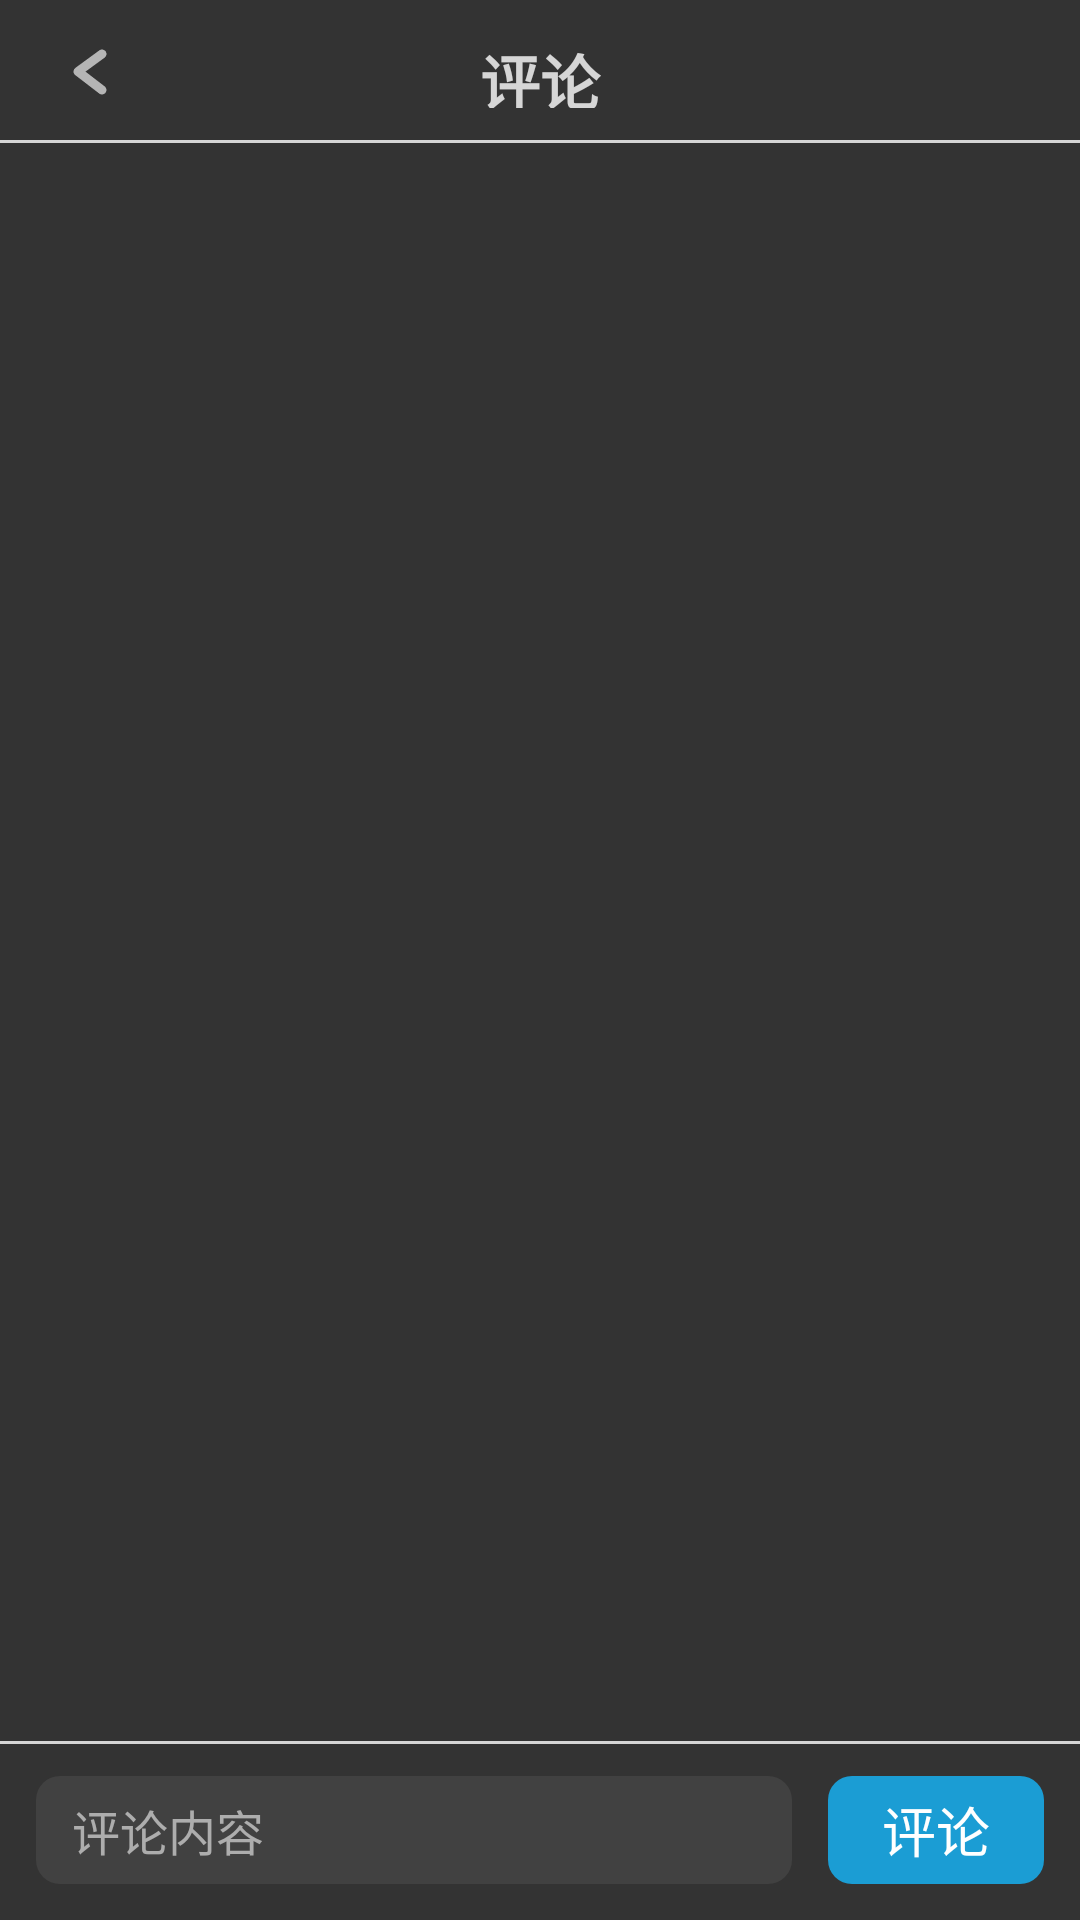

Where icons sit on this 1080 x 1920 app screen, as Rect(x1, y1, x2, y2):
back: Rect(73, 49, 107, 95)
